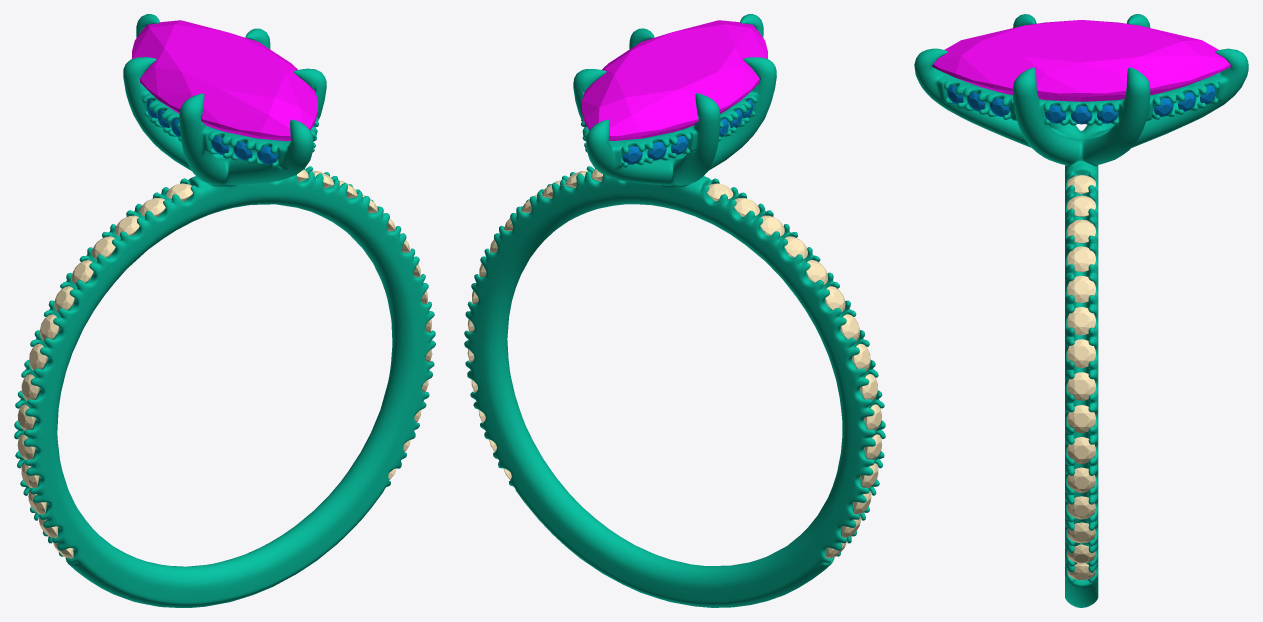
The model's file is BE1D1230_MQ_200ct_RENDER.glb.
The picture shows the model from 3 angles, left to right: view 1: azimuth 30°, elevation 25°; view 2: azimuth 150°, elevation 25°; view 3: azimuth 270°, elevation 25°; orthographic projection.
Parts seen in each view (by area): view 1: Metal 01, CS_Diamond_Marquise; view 2: Metal 01, CS_Diamond_Marquise; view 3: Metal 01, CS_Diamond_Marquise, Diamond_Round_Gem_SH.006, Diamond_Round_Gem_SH.007, Diamond_Round_Gem_SH.005, Diamond_Round_Gem_SH.008, Diamond_Round_Gem_SH.004, Diamond_Round_Gem_SH.009, Diamond_Round_Gem_SH.003, Diamond_Round_Gem_SH.010, Diamond_Round_Gem_SH.002, Diamond_Round_Gem_SH.011 (+1 smaller).
Part boxes in pixels (box(x1,y1,x2,y2)): Metal 01: box(14, 14, 435, 607); CS_Diamond_Marquise: box(132, 20, 317, 140); Metal 01: box(464, 14, 885, 607); CS_Diamond_Marquise: box(582, 20, 767, 140); Metal 01: box(914, 14, 1248, 607); CS_Diamond_Marquise: box(932, 20, 1230, 101); Diamond_Round_Gem_SH.006: box(1067, 339, 1095, 367); Diamond_Round_Gem_SH.007: box(1067, 372, 1095, 400); Diamond_Round_Gem_SH.005: box(1067, 307, 1095, 335); Diamond_Round_Gem_SH.008: box(1067, 405, 1095, 432); Diamond_Round_Gem_SH.004: box(1067, 275, 1095, 302); Diamond_Round_Gem_SH.009: box(1067, 437, 1095, 463); Diamond_Round_Gem_SH.003: box(1067, 246, 1095, 271); Diamond_Round_Gem_SH.010: box(1067, 467, 1095, 492); Diamond_Round_Gem_SH.002: box(1067, 219, 1095, 243); Diamond_Round_Gem_SH.011: box(1067, 496, 1095, 519).
Size of the model in its own units: 20.05 by 25.15 by 14.
